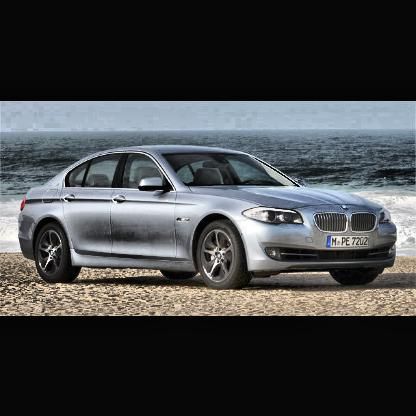BMW ActiveHybrid 5 Sedan 2012: (19, 143, 400, 290)
